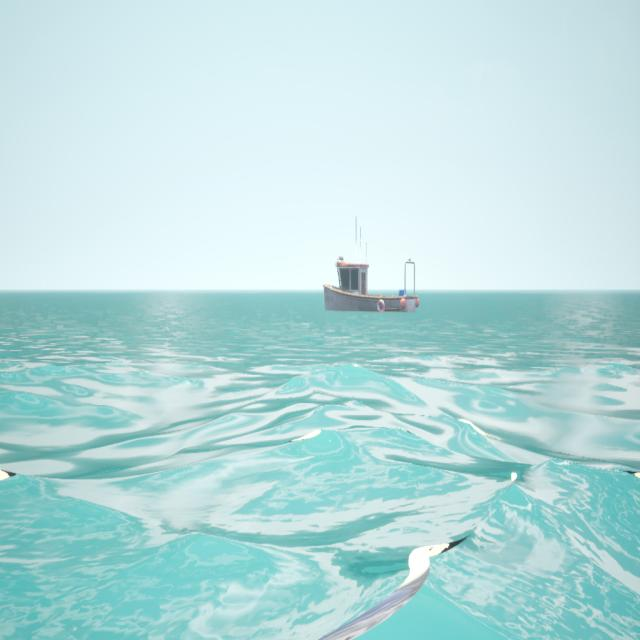ship: (317, 208, 433, 336)
